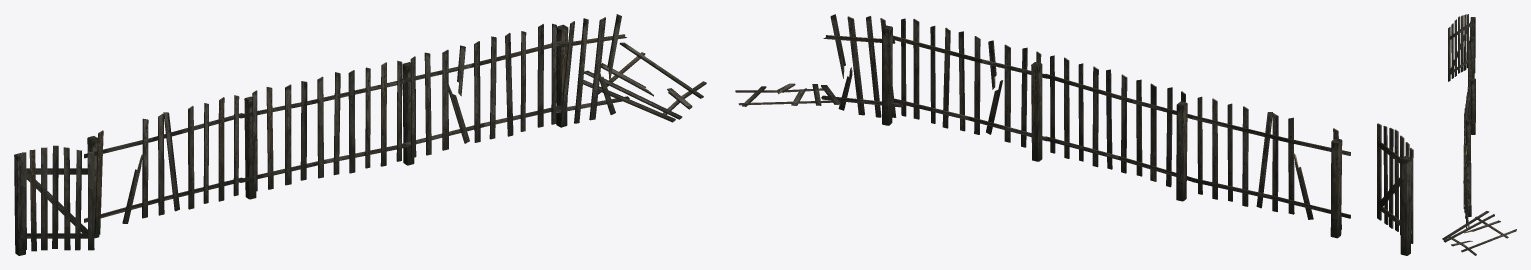
File: shtaket.FBX
3 views of the same model, side by side, from view 1: azimuth 30°, elevation 25°; view 2: azimuth 150°, elevation 25°; view 3: azimuth 270°, elevation 25° (orthographic). The views are drawn at different scales.
Visible parts, largest first — view 1: Shtak_01, Shtak_02, Shtak_03, Shtak_break, kalitka, Shtak_kalitka; view 2: Shtak_02, Shtak_01, Shtak_03, Shtak_break, kalitka, Shtak_kalitka; view 3: Shtak_break, kalitka, Shtak_01, Shtak_02, Shtak_03, Shtak_kalitka.
Part boxes in pixels (bbox=[...]): Shtak_01: bbox=[240, 60, 406, 199]; Shtak_02: bbox=[402, 23, 564, 165]; Shtak_03: bbox=[84, 95, 242, 238]; Shtak_break: bbox=[556, 14, 706, 127]; kalitka: bbox=[21, 145, 94, 251]; Shtak_kalitka: bbox=[14, 153, 25, 255]; Shtak_02: bbox=[893, 18, 1047, 161]; Shtak_01: bbox=[1045, 55, 1192, 201]; Shtak_03: bbox=[1192, 96, 1350, 238]; Shtak_break: bbox=[735, 14, 902, 125]; kalitka: bbox=[1377, 123, 1413, 243]; Shtak_kalitka: bbox=[1400, 156, 1411, 255]; Shtak_break: bbox=[1442, 161, 1516, 255]; kalitka: bbox=[1448, 14, 1469, 81]; Shtak_01: bbox=[1464, 75, 1475, 154]; Shtak_02: bbox=[1463, 116, 1471, 208]; Shtak_03: bbox=[1468, 34, 1474, 117]; Shtak_kalitka: bbox=[1470, 17, 1475, 72].
Bounding box in the file's own units: 8.28 × 1.29 × 1.41.
